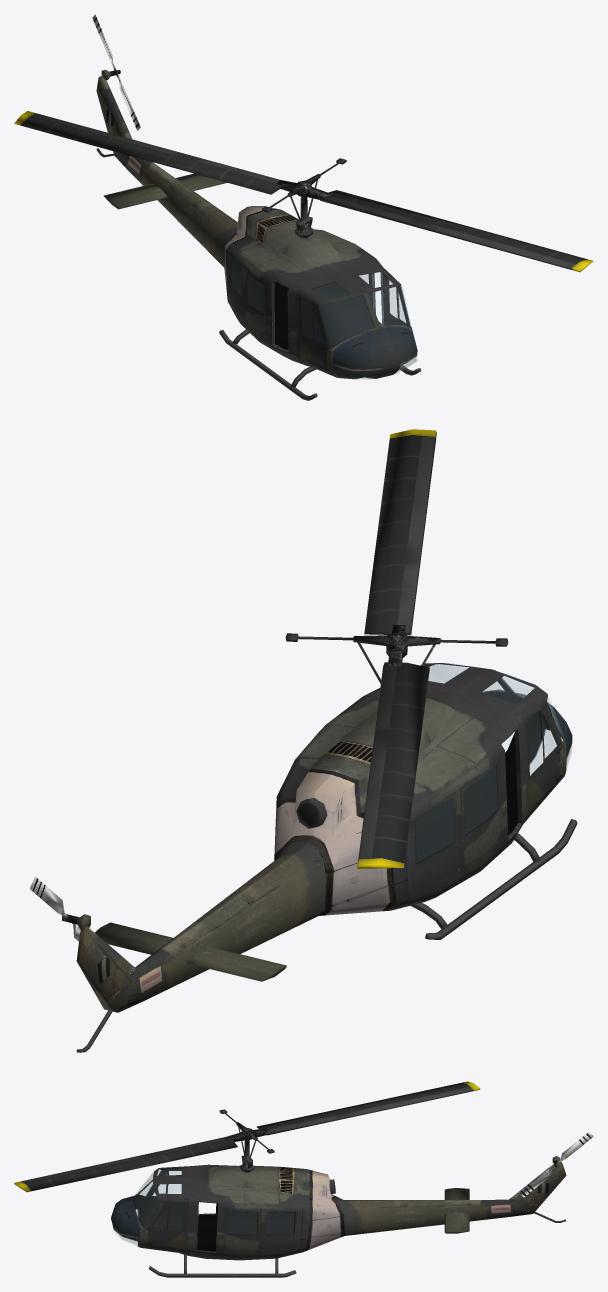
The model's file is huey.glb.
3 renders of one model, top to bottom at view 1: azimuth 30°, elevation 25°; view 2: azimuth 150°, elevation 25°; view 3: azimuth 270°, elevation 25°, orthographic. The views are drawn at different scales.
Visible parts, largest first — view 1: Bell_Huey, Top_Rotor, Inside1, Back_Rotor; view 2: Bell_Huey, Top_Rotor, Inside1, Back_Rotor; view 3: Bell_Huey, Top_Rotor, Inside1, Back_Rotor.
Part boxes in pixels (box(x1,y1,x2,y2)): Bell_Huey: box(96, 69, 420, 400); Top_Rotor: box(14, 111, 593, 272); Inside1: box(229, 256, 415, 378); Back_Rotor: box(92, 14, 140, 130); Bell_Huey: box(76, 663, 577, 1052); Top_Rotor: box(285, 429, 508, 868); Inside1: box(415, 664, 569, 864); Back_Rotor: box(30, 876, 80, 941); Bell_Huey: box(111, 1156, 566, 1277); Top_Rotor: box(14, 1081, 480, 1192); Inside1: box(115, 1167, 295, 1251); Back_Rotor: box(518, 1132, 593, 1197).
Bounding box in the file's own units: 4.72 × 2.59 × 10.43.
3 materials, 1 textured.
